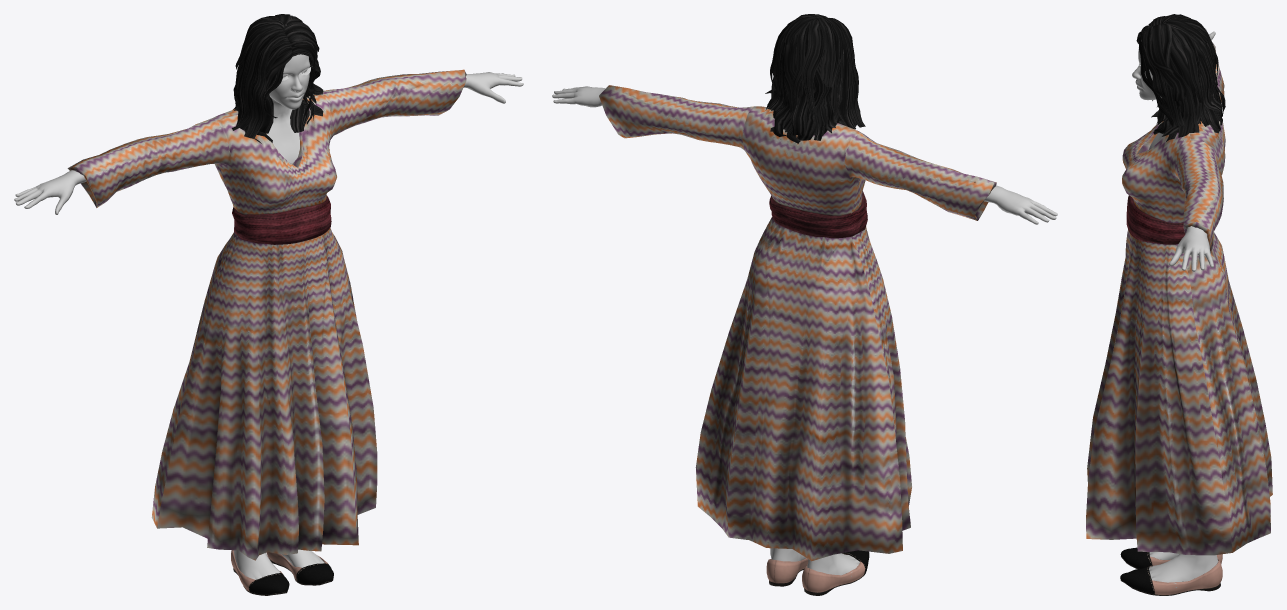
The model's file is fuse-black-girl.fbx.
3 views of the same model, side by side, from view 1: azimuth 30°, elevation 25°; view 2: azimuth 150°, elevation 25°; view 3: azimuth 270°, elevation 25° (orthographic).
Parts seen in each view (by area): view 1: black_girl; view 2: black_girl; view 3: black_girl.
Part boxes in pixels (x1,y1,x2,y2): black_girl: (14,14,523,595); black_girl: (552,14,1057,595); black_girl: (1086,14,1272,595).
Bounding box in the file's own units: 166 × 175 × 53.12.
